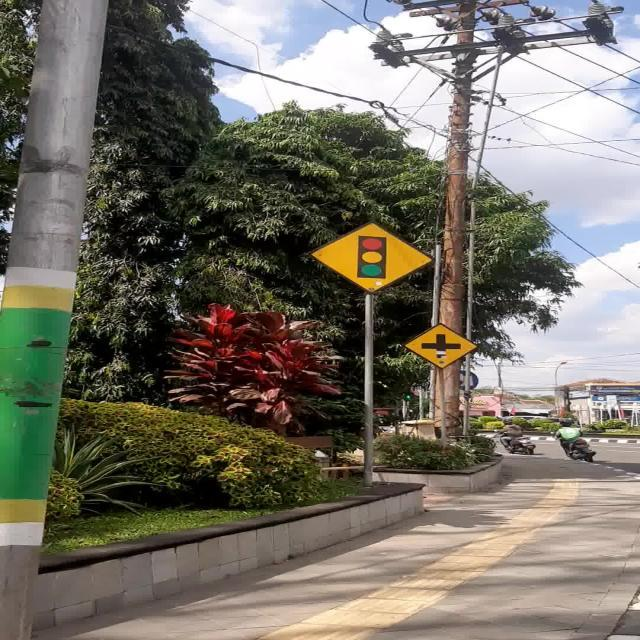Lampu Lalu Lintas: (308, 222, 434, 294)
